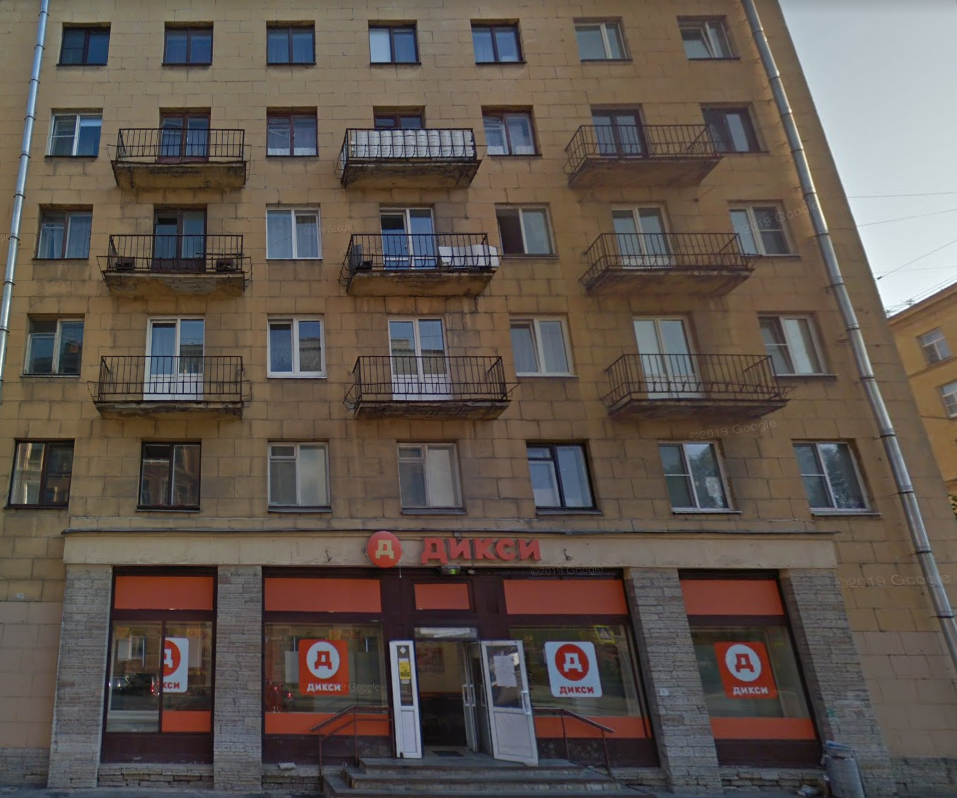door: (395, 620, 536, 774)
signboard: (365, 520, 543, 572)
window: (678, 565, 835, 765), (504, 575, 652, 761), (97, 565, 218, 768), (265, 574, 390, 745), (632, 314, 698, 400), (793, 439, 868, 514), (659, 440, 734, 510), (396, 442, 459, 518), (137, 441, 204, 511), (6, 437, 72, 507), (526, 446, 591, 516), (267, 438, 328, 512), (759, 307, 826, 371), (612, 201, 672, 271), (147, 319, 201, 396), (396, 315, 445, 396), (23, 315, 83, 377), (377, 205, 435, 269), (513, 313, 568, 376), (270, 315, 324, 378), (154, 203, 203, 272), (37, 204, 94, 260), (491, 201, 552, 253), (735, 203, 793, 256), (268, 206, 319, 260), (703, 101, 758, 151), (267, 109, 318, 161), (47, 108, 104, 154), (153, 112, 210, 158), (366, 15, 418, 65), (485, 108, 538, 156), (682, 17, 739, 60), (576, 15, 625, 65), (591, 115, 645, 155), (62, 19, 109, 64), (469, 23, 519, 65), (266, 24, 317, 64), (165, 23, 215, 62)
